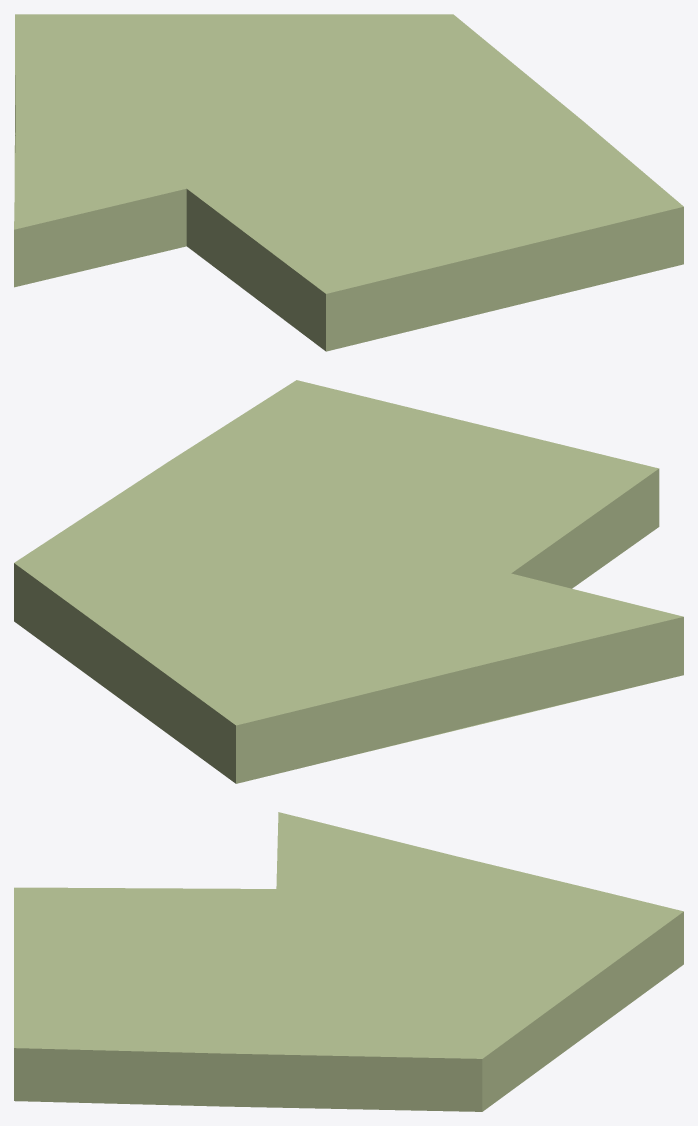
File: ground_11.gltf
The picture shows the model from 3 angles, top to bottom: view 1: azimuth 30°, elevation 25°; view 2: azimuth 150°, elevation 25°; view 3: azimuth 270°, elevation 25°; orthographic projection. The views are drawn at different scales.
Visible parts, largest first — view 1: ground_33; view 2: ground_33; view 3: ground_33.
Part boxes in pixels (x1,y1,x2,y2): ground_33: (14, 14, 683, 351); ground_33: (14, 380, 683, 783); ground_33: (14, 812, 683, 1111).
Size of the model in its own units: 10.86 by 1.09 by 12.45.
